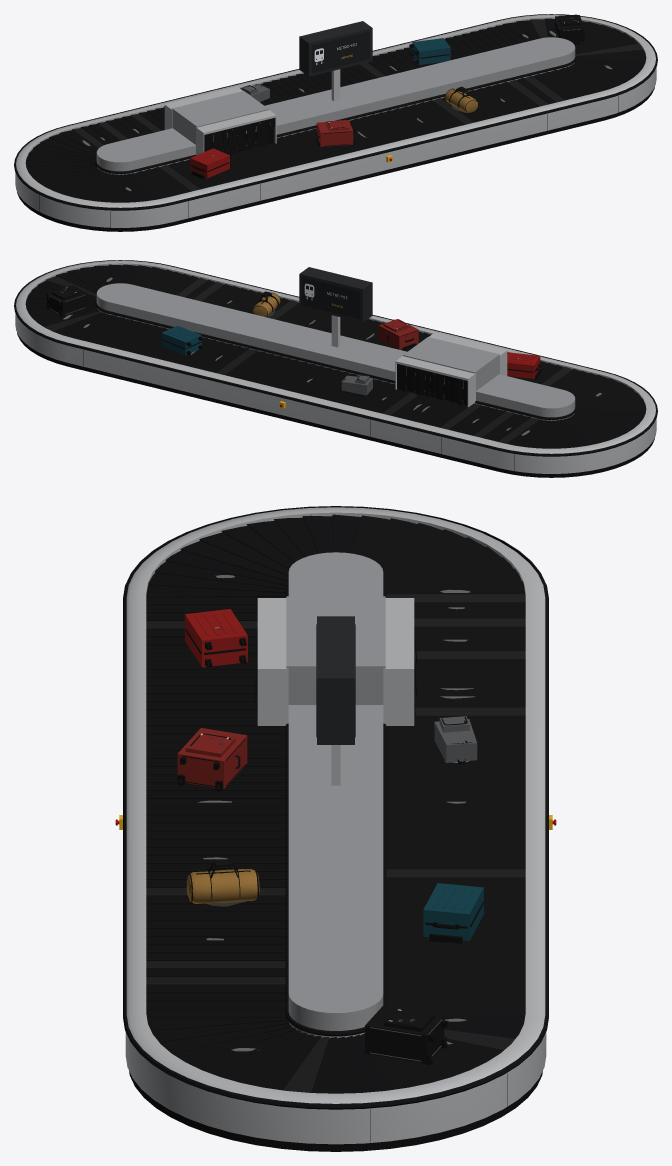
Rendered from carousel_36.glb.
The picture shows the model from 3 angles, top to bottom: view 1: azimuth 30°, elevation 25°; view 2: azimuth 150°, elevation 25°; view 3: azimuth 270°, elevation 25°; orthographic projection. The views are drawn at different scales.
Visible parts, largest first — view 1: band_2, band_0, band_4, band_1, band_5, band_11, band_10, band_20, band_19, band_13, band_23, band_22 (+1 smaller); view 2: band_2, band_0, band_4, band_1, band_5, band_11, band_10, band_20, band_19, band_23, band_13, band_24 (+1 smaller); view 3: band_2, band_0, band_4, band_5, band_10, band_20, band_1, band_19, band_3, band_13, band_23, band_22 (+1 smaller).
Part boxes in pixels (x1=…): band_2: x1=14, y1=14, x2=657, y2=210; band_0: x1=15, y1=14, x2=656, y2=227; band_4: x1=96, y1=37, x2=575, y2=174; band_1: x1=17, y1=41, x2=654, y2=231; band_5: x1=72, y1=19, x2=643, y2=191; band_11: x1=311, y1=31, x2=369, y2=73; band_10: x1=299, y1=21, x2=372, y2=76; band_20: x1=260, y1=14, x2=584, y2=146; band_19: x1=316, y1=120, x2=353, y2=146; band_13: x1=190, y1=148, x2=229, y2=178; band_23: x1=412, y1=38, x2=450, y2=64; band_22: x1=445, y1=88, x2=477, y2=112; band_2: x1=14, y1=260, x2=657, y2=456; band_0: x1=15, y1=260, x2=656, y2=473; band_4: x1=96, y1=283, x2=575, y2=420; band_1: x1=17, y1=296, x2=654, y2=477; band_5: x1=44, y1=276, x2=572, y2=443; band_11: x1=302, y1=277, x2=360, y2=319; band_10: x1=299, y1=267, x2=372, y2=322; band_20: x1=47, y1=285, x2=416, y2=395; band_19: x1=378, y1=319, x2=418, y2=349; band_23: x1=161, y1=325, x2=201, y2=355; band_13: x1=507, y1=352, x2=540, y2=378; band_24: x1=49, y1=294, x2=372, y2=395; band_2: x1=123, y1=506, x2=548, y2=1109; band_0: x1=125, y1=507, x2=546, y2=1144; band_4: x1=286, y1=552, x2=385, y2=1038; band_5: x1=146, y1=594, x2=525, y2=1092; band_10: x1=317, y1=616, x2=354, y2=744; band_20: x1=182, y1=738, x2=465, y2=1063; band_1: x1=129, y1=638, x2=542, y2=1151; band_19: x1=177, y1=728, x2=247, y2=788; band_3: x1=146, y1=584, x2=507, y2=1142; band_13: x1=185, y1=609, x2=247, y2=667; band_23: x1=423, y1=883, x2=483, y2=940; band_22: x1=186, y1=869, x2=259, y2=903.
Bounding box in the file's own units: 11.99 × 1.92 × 3.72.
